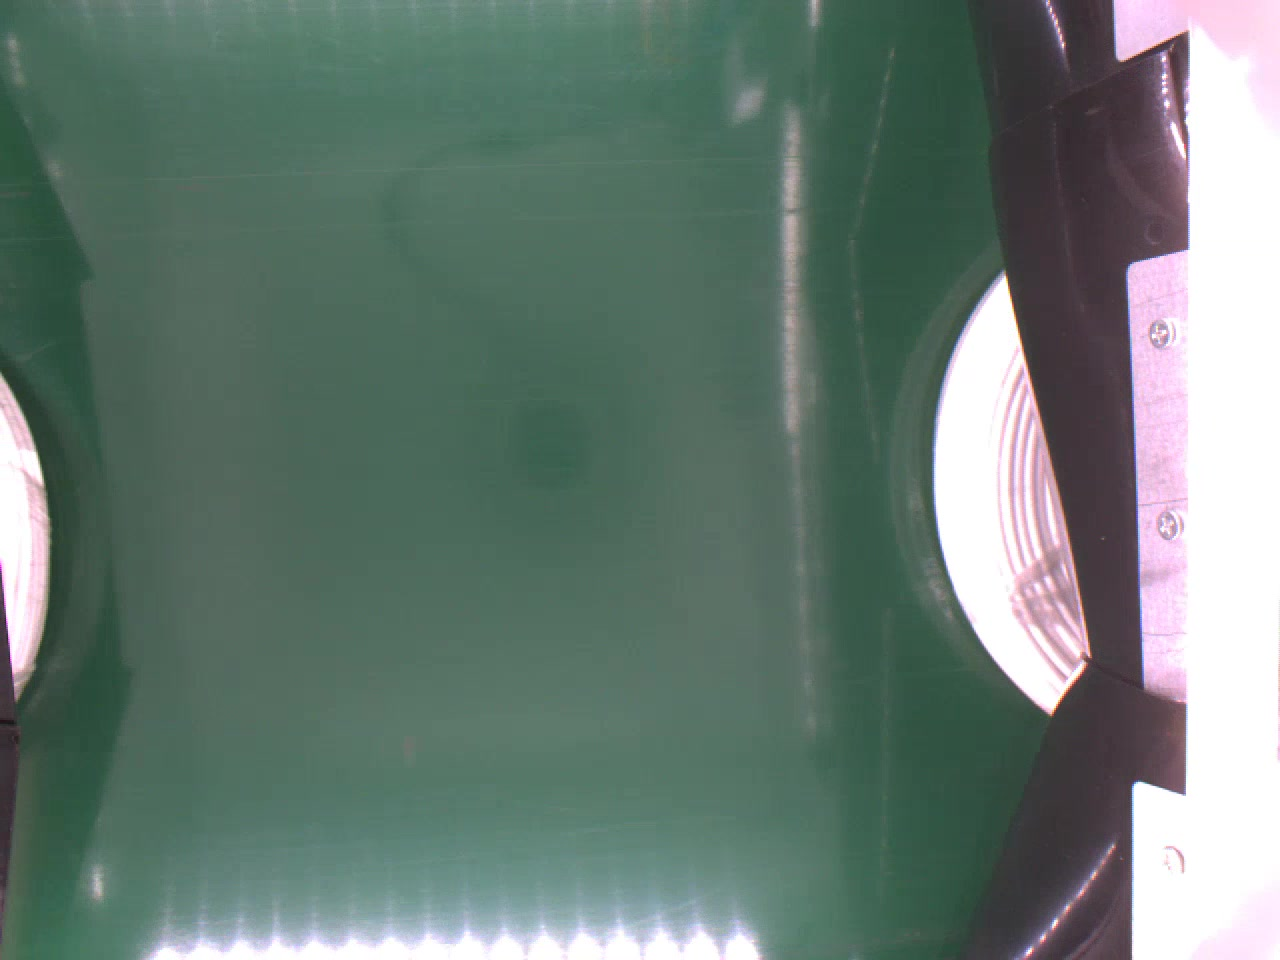white: (927, 265, 1085, 717)
